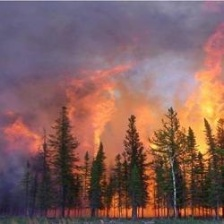fire: (59, 79, 220, 185)
